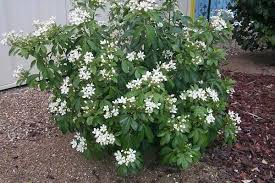flower: (126, 148, 140, 157), (128, 95, 138, 104), (96, 135, 105, 144), (118, 95, 127, 104), (133, 77, 141, 87), (125, 53, 135, 61), (138, 50, 146, 60), (69, 139, 77, 148), (114, 150, 121, 160), (74, 130, 81, 140), (125, 81, 133, 89), (153, 67, 161, 75), (101, 124, 108, 133), (77, 147, 87, 153), (102, 104, 110, 111), (88, 88, 96, 95), (80, 86, 88, 93), (103, 111, 109, 120), (87, 83, 97, 88), (111, 108, 118, 115), (112, 98, 118, 106), (80, 137, 86, 144), (104, 133, 110, 140), (146, 70, 152, 77), (55, 96, 61, 103), (94, 127, 99, 135), (142, 75, 148, 81), (110, 135, 115, 142)
